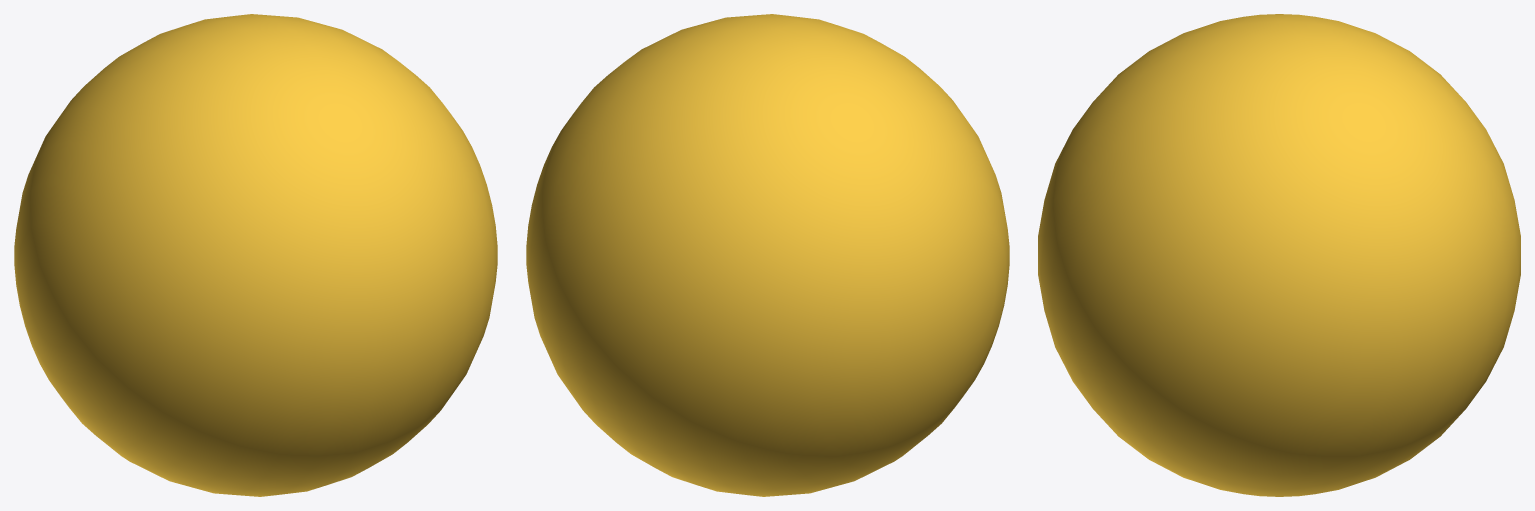
The picture shows the model from 3 angles, left to right: view 1: azimuth 30°, elevation 25°; view 2: azimuth 150°, elevation 25°; view 3: azimuth 270°, elevation 25°; orthographic projection.
Visible parts, largest first — view 1: GE-26900: Fuel; view 2: GE-26900: Fuel; view 3: GE-26900: Fuel.
Part boxes in pixels (<box>): GE-26900: Fuel: <box>14,14,497,496</box>; GE-26900: Fuel: <box>526,14,1009,496</box>; GE-26900: Fuel: <box>1038,14,1520,496</box>.
Bounding box in the file's own units: 0.15 × 0.1497 × 0.1494.
